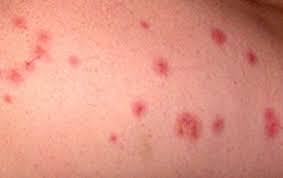Bed Bugs: (173, 111, 201, 141), (263, 107, 282, 145), (21, 43, 45, 72), (0, 12, 27, 29), (239, 47, 258, 68), (65, 55, 86, 73), (138, 16, 155, 38), (0, 67, 23, 83), (211, 28, 231, 44), (129, 100, 145, 119), (0, 94, 23, 106), (156, 57, 168, 76), (212, 116, 224, 134), (36, 30, 51, 43)
